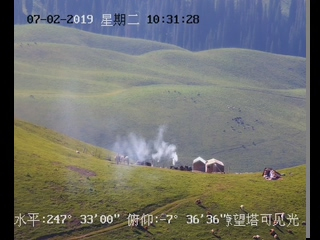smoke: (111, 124, 179, 167)
